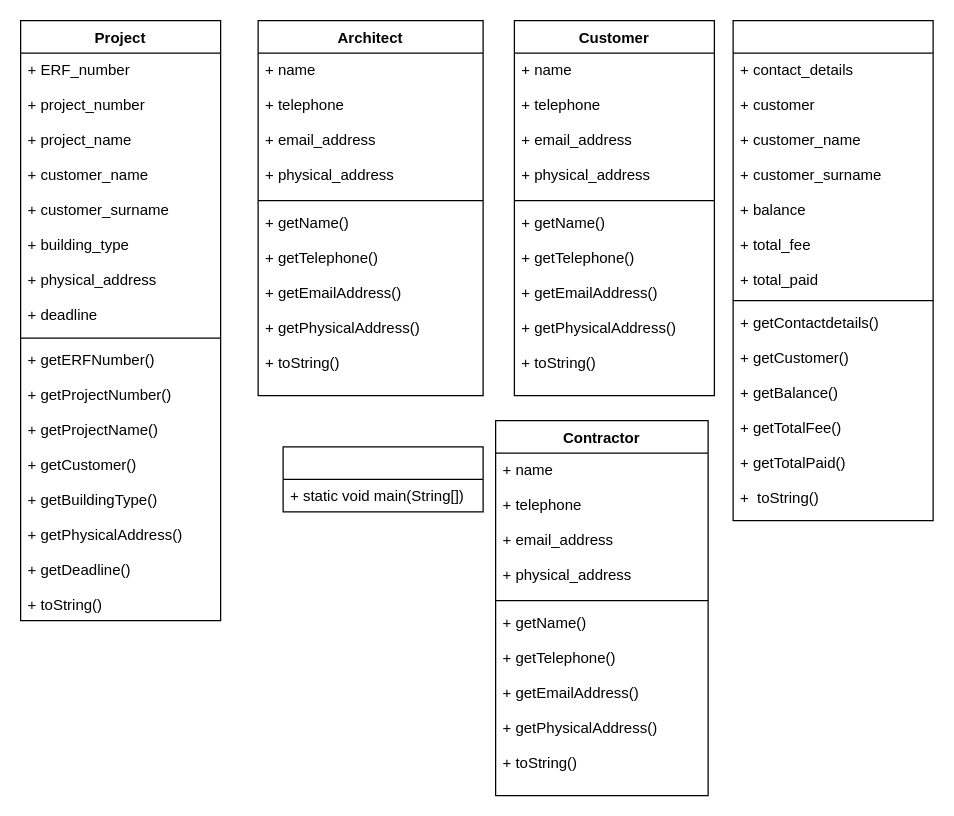
Some shapes in this 954 by 816 pixel diagram are drawn without their labels. Each missing label, with the box of its shape:
Invoice: (732, 19, 933, 521)
ProjectOverview: (282, 446, 483, 512)
